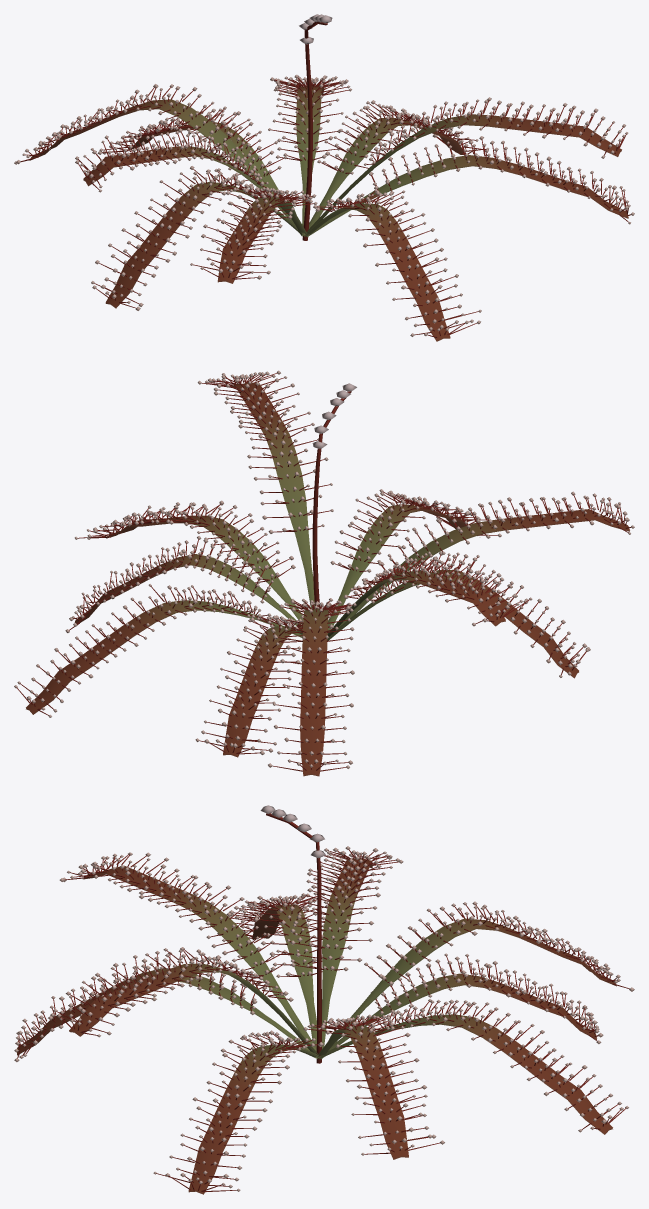
The model's file is sundew.glb.
3 renders of one model, top to bottom at view 1: azimuth 30°, elevation 25°; view 2: azimuth 150°, elevation 25°; view 3: azimuth 270°, elevation 25°, orthographic. The views are drawn at different scales.
Visible parts, largest first — view 1: sundew; view 2: sundew; view 3: sundew.
Boxes of the visible parts, bbox=[...] form: sundew: bbox=[14, 14, 634, 341]; sundew: bbox=[14, 370, 634, 776]; sundew: bbox=[14, 805, 634, 1194].
Bounding box in the file's own units: 3.73 × 1.71 × 3.76.
